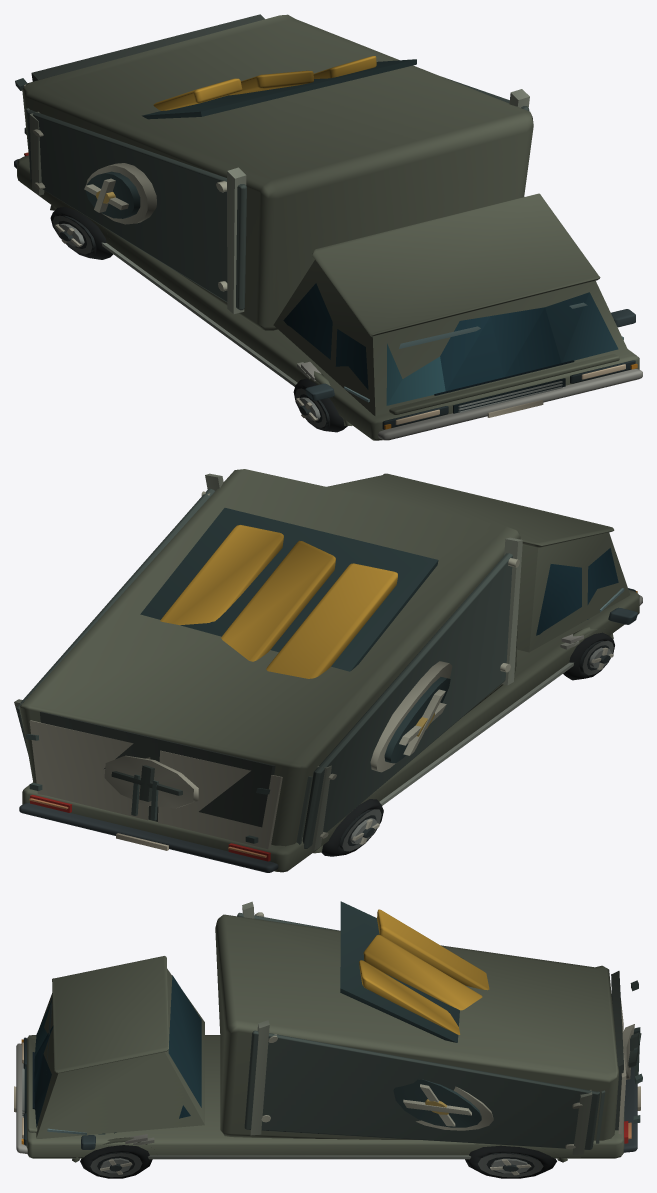
Rendered from bank.glb.
3 renders of one model, top to bottom at view 1: azimuth 30°, elevation 25°; view 2: azimuth 150°, elevation 25°; view 3: azimuth 270°, elevation 25°, orthographic. The views are drawn at different scales.
Parts seen in each view (by area): view 1: bank_body; view 2: bank_body; view 3: bank_body.
Boxes of the visible parts, x1,y1,x2,y2 form: bank_body: (14,14,642,440); bank_body: (14,469,642,872); bank_body: (14,901,642,1178).
Bounding box in the file's own units: 2.66 × 1.63 × 5.29.
